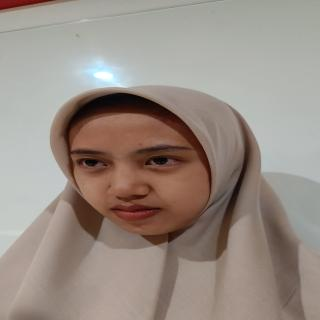Marah: (63, 99, 220, 238)
